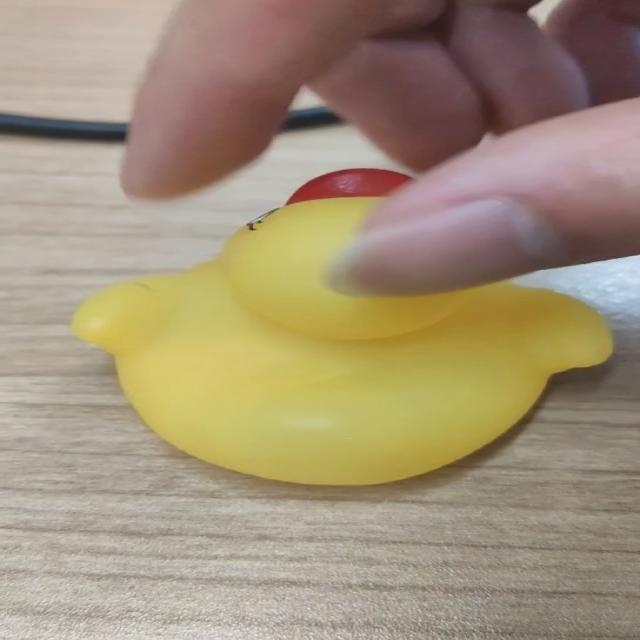rubber-duck: (71, 169, 611, 483)
